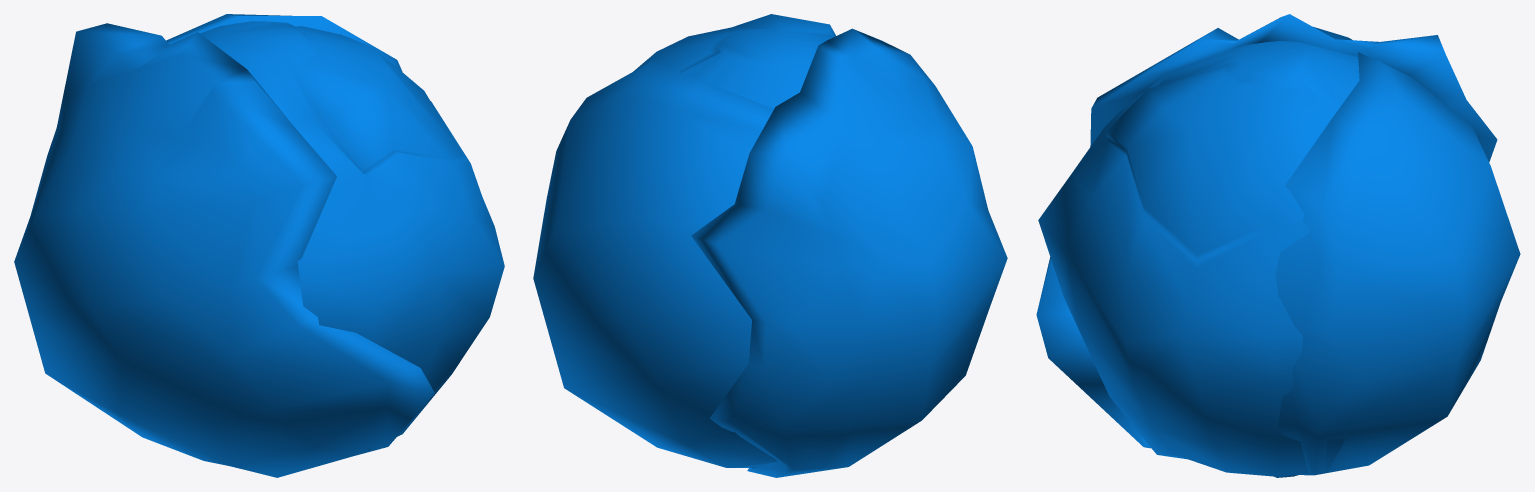
Rendered from Mesh_cabbage.fbx.
3 renders of one model, left to right at view 1: azimuth 30°, elevation 25°; view 2: azimuth 150°, elevation 25°; view 3: azimuth 270°, elevation 25°, orthographic. The views are drawn at different scales.
Visible parts, largest first — view 1: leaf.002, cabage, leaf.001; view 2: leaf.002, leaf.001, cabage; view 3: cabage, leaf.001, leaf.002.
Boxes of the visible parts, x1,y1,x2,y2 form: leaf.002: (14, 23, 434, 477); cabage: (189, 21, 504, 450); leaf.001: (166, 14, 402, 71); leaf.002: (691, 28, 1007, 477); leaf.001: (533, 61, 776, 467); cabage: (633, 14, 885, 468); cabage: (1038, 41, 1359, 477); leaf.001: (1275, 52, 1520, 475); leaf.002: (1036, 14, 1497, 448).
Bounding box in the file's own units: 37.73 × 37.87 × 39.11.
